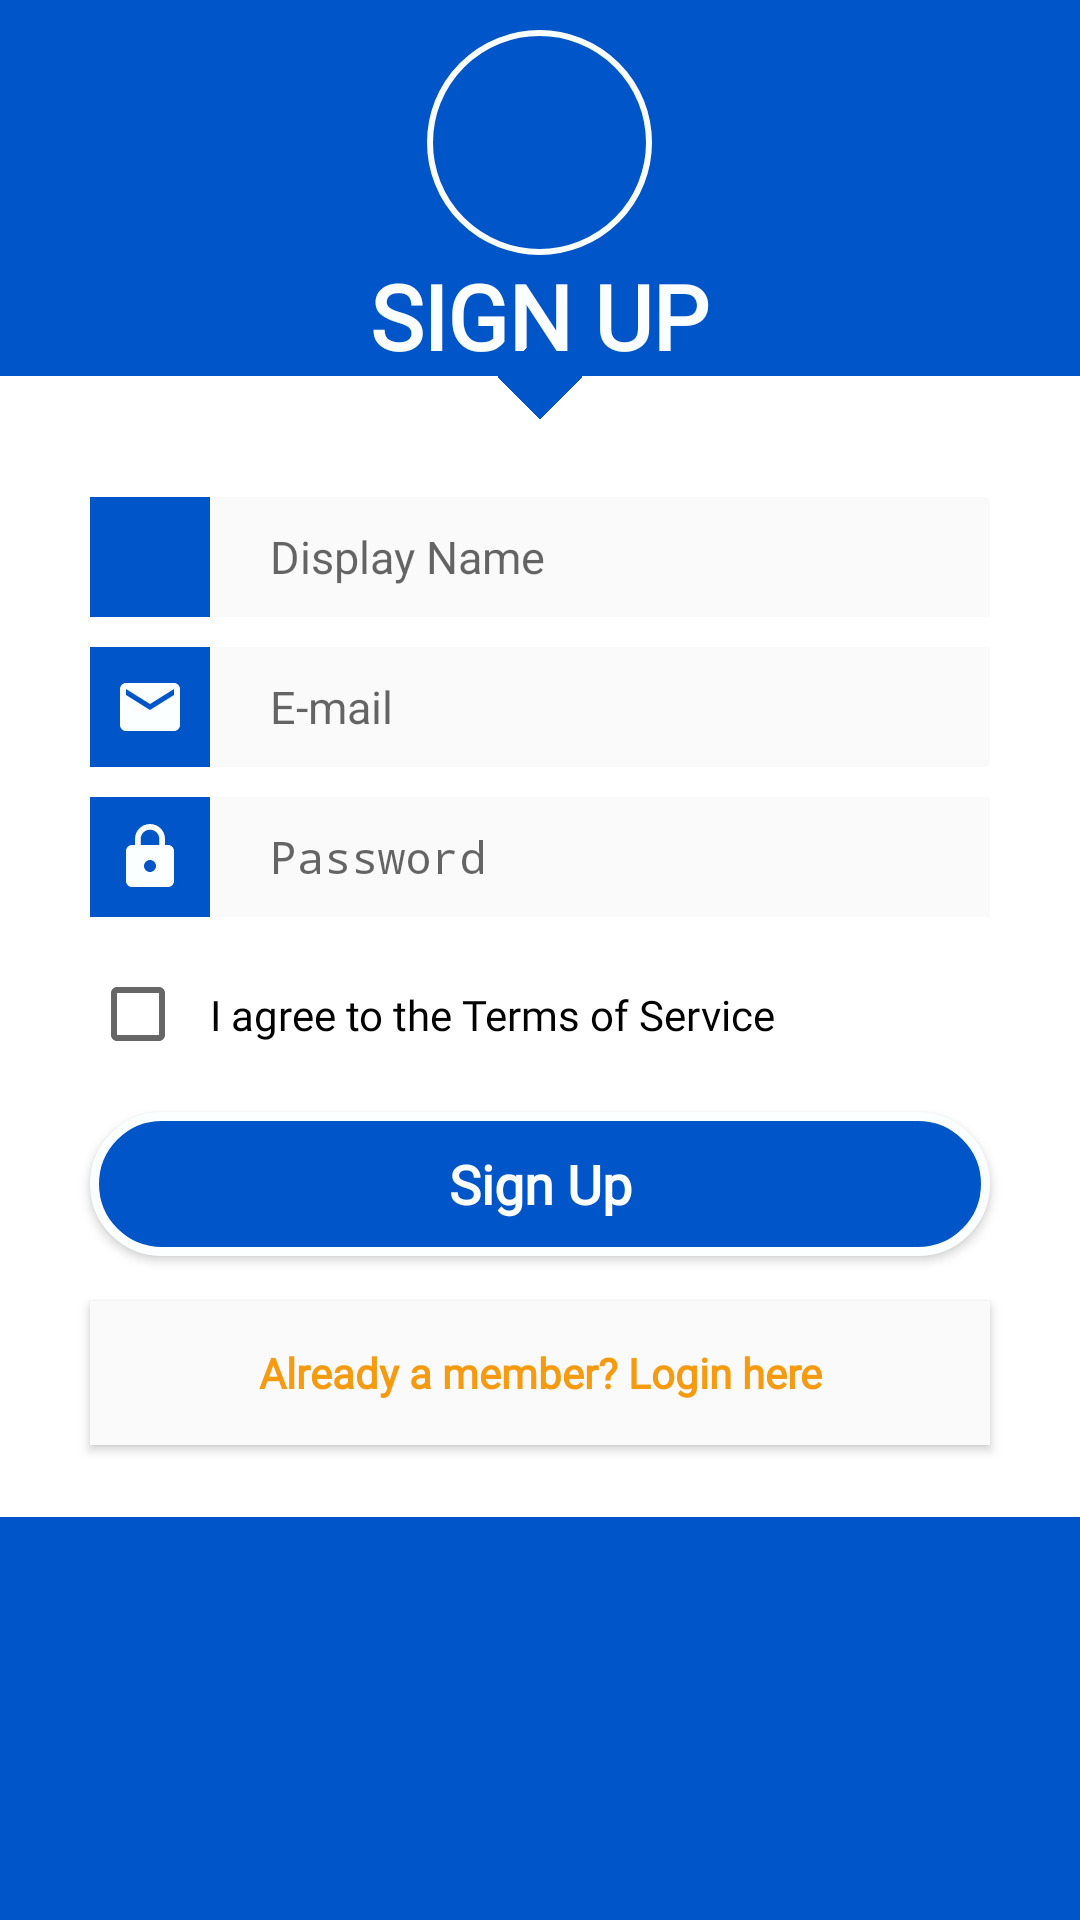

Where icons sit on this 1080px x 1920px app screen, as (x1, y1, x2, y2):
lock: (90, 797, 210, 917)
